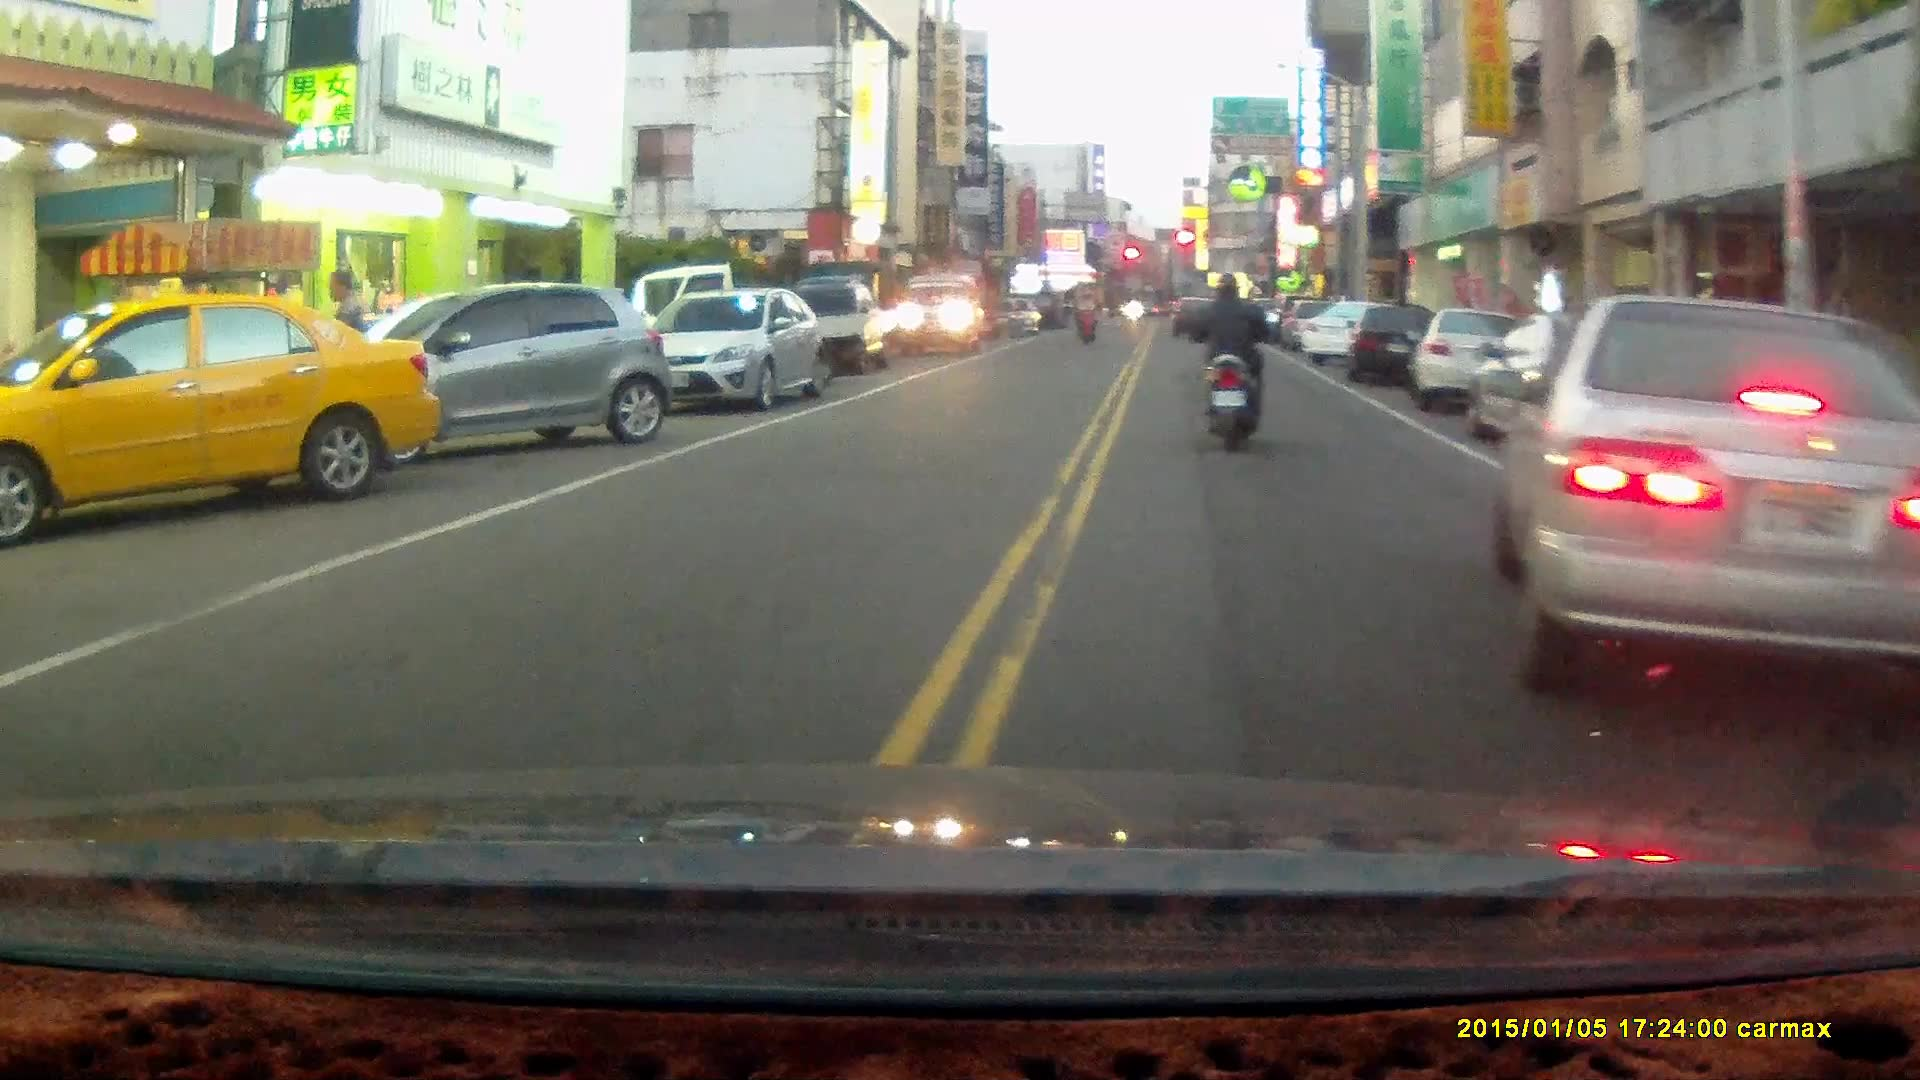rider: (1184, 270, 1278, 456), (1071, 283, 1099, 344)
vehicle: (1498, 295, 1920, 711), (1, 290, 433, 547), (324, 279, 673, 453), (621, 287, 824, 412), (773, 278, 896, 375), (1414, 305, 1516, 411), (890, 276, 978, 350)
